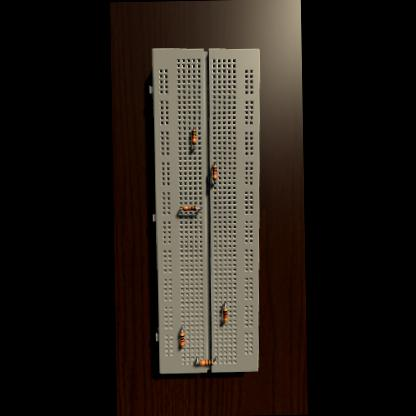breadboard: (148, 46, 264, 374)
resistor: (199, 359, 212, 365), (180, 331, 184, 346), (223, 308, 227, 322), (212, 166, 216, 180), (191, 129, 194, 144), (182, 207, 196, 210)
wire: (212, 357, 215, 363), (180, 325, 182, 332), (196, 358, 198, 362), (224, 302, 225, 308), (213, 180, 214, 184), (196, 208, 199, 209), (224, 322, 226, 323), (180, 207, 182, 208), (194, 144, 194, 148)
